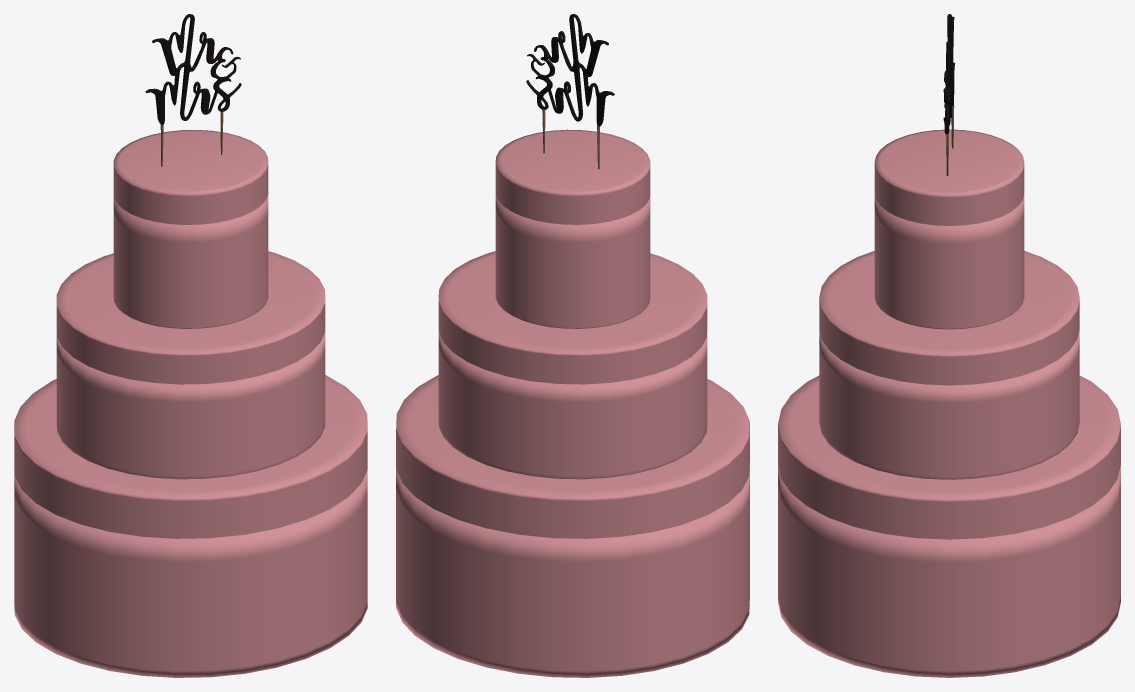
File: 3-tier-blush-none-mrms.glb
3 renders of one model, left to right at view 1: azimuth 30°, elevation 25°; view 2: azimuth 150°, elevation 25°; view 3: azimuth 270°, elevation 25°, orthographic.
Parts seen in each view (by area): view 1: Cylinder.022, Cylinder.014, Cylinder.021, mrms.002; view 2: Cylinder.022, Cylinder.014, Cylinder.021, mrms.002; view 3: Cylinder.022, Cylinder.014, Cylinder.021, mrms.002.
Part boxes in pixels (left/top/right/bottom): Cylinder.022: left=14, top=375, right=367, bottom=677; Cylinder.014: left=56, top=251, right=325, bottom=479; Cylinder.021: left=113, top=130, right=268, bottom=328; mrms.002: left=145, top=14, right=241, bottom=166; Cylinder.022: left=396, top=375, right=749, bottom=677; Cylinder.014: left=438, top=251, right=707, bottom=479; Cylinder.021: left=495, top=129, right=650, bottom=328; mrms.002: left=526, top=14, right=614, bottom=169; Cylinder.022: left=778, top=375, right=1120, bottom=677; Cylinder.014: left=819, top=251, right=1079, bottom=479; Cylinder.021: left=874, top=129, right=1024, bottom=329; mrms.002: left=943, top=14, right=954, bottom=176.
Bounding box in the file's own units: 4.22 × 7.67 × 4.06.
